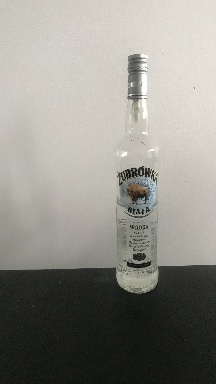butelka: (114, 49, 159, 297)
